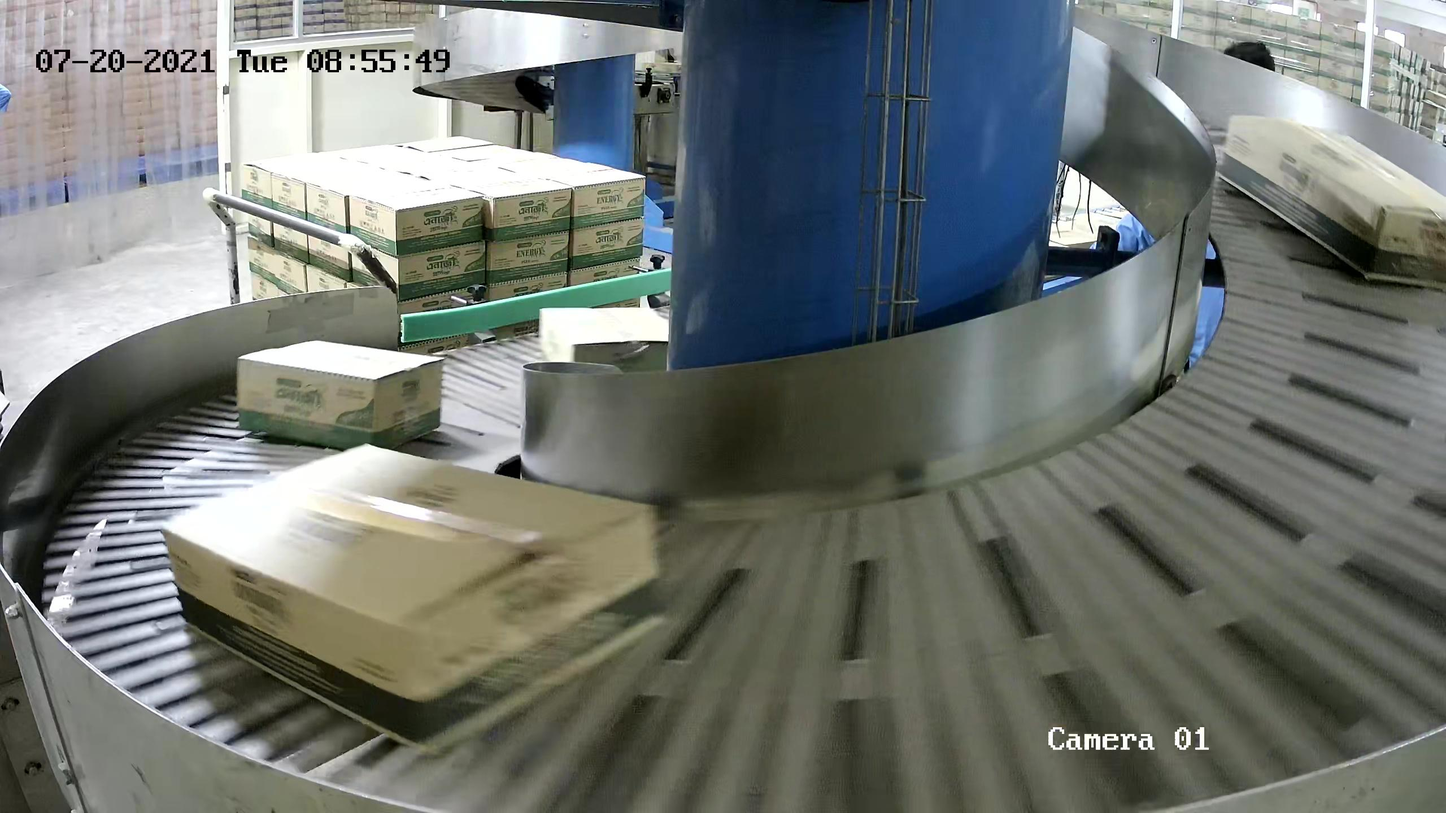Box: (158, 439, 667, 759), (1216, 113, 1446, 290), (236, 340, 446, 451)
